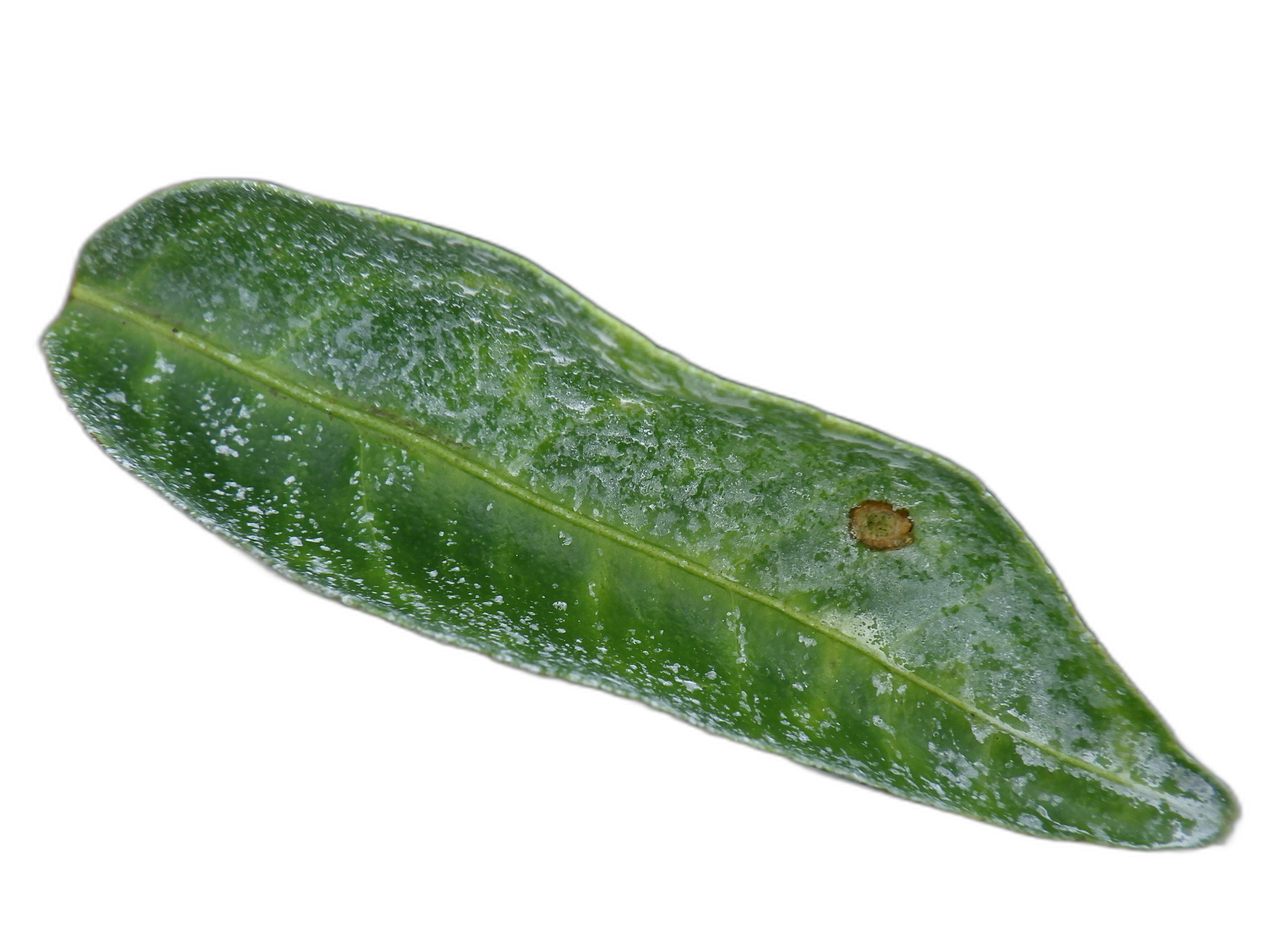Canker: (850, 500, 913, 549)
